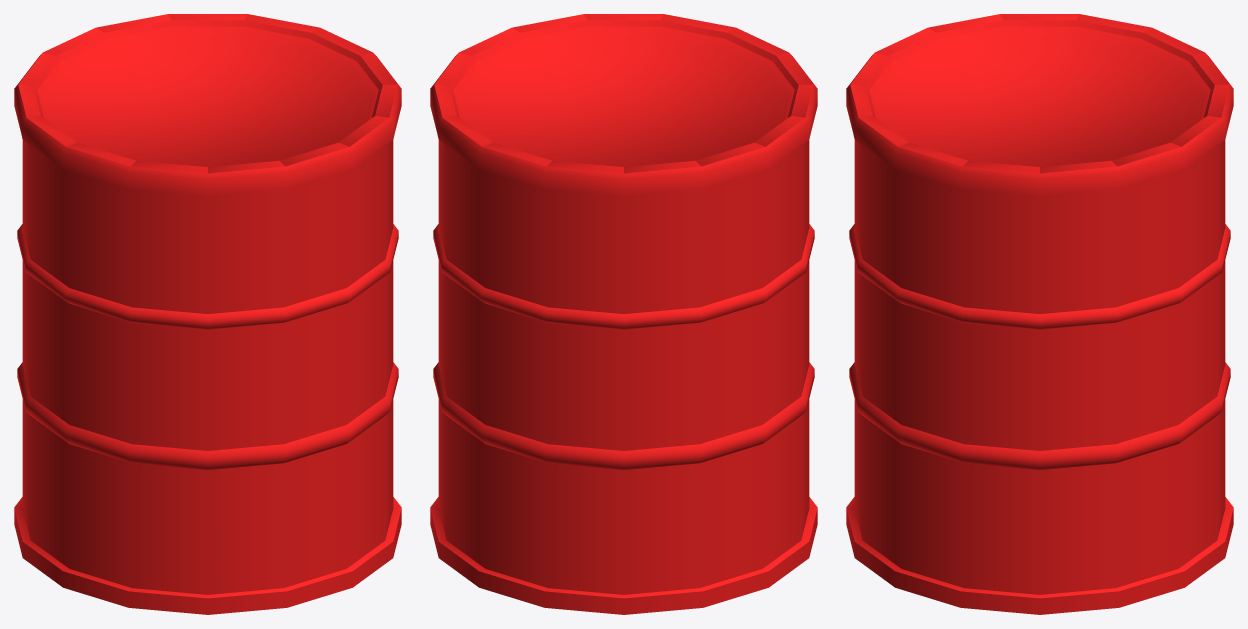
Rendered from barrel.FBX.
3 views of the same model, side by side, from view 1: azimuth 30°, elevation 25°; view 2: azimuth 150°, elevation 25°; view 3: azimuth 270°, elevation 25° (orthographic).
Parts seen in each view (by area): view 1: barrels; view 2: barrels; view 3: barrels.
Boxes of the visible parts, bbox=[...] form: barrels: bbox=[14, 14, 401, 614]; barrels: bbox=[430, 14, 817, 614]; barrels: bbox=[846, 14, 1233, 614].
Size of the model in its own units: 27.02 by 34.01 by 27.17.
